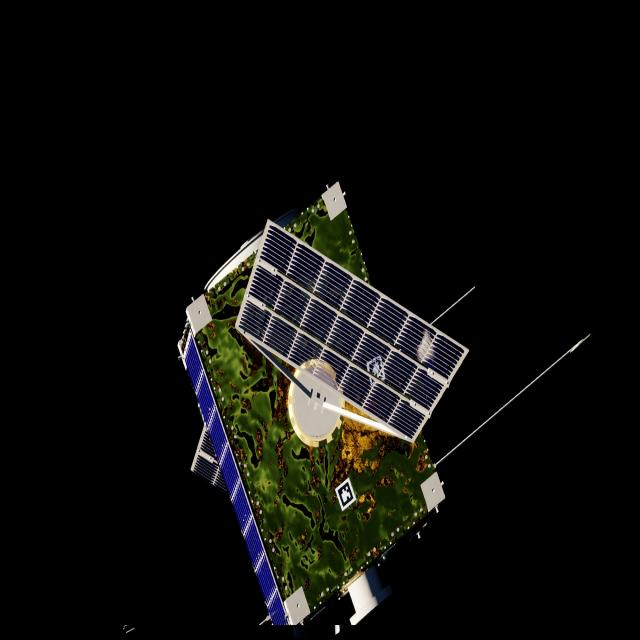medium_debris: (178, 183, 469, 627)
